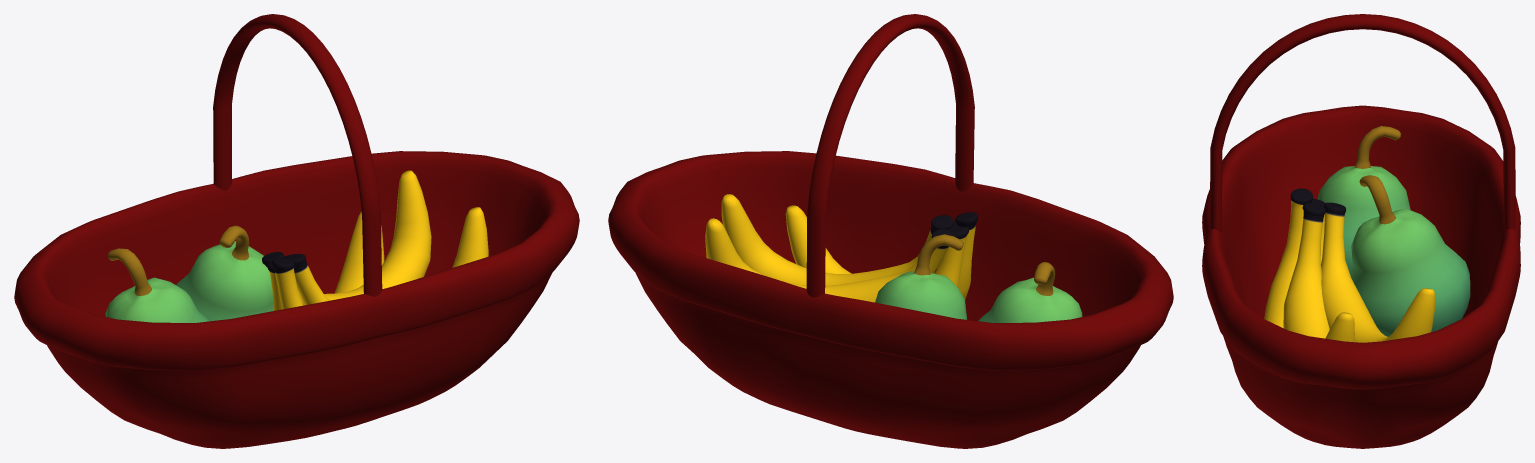
Rendered from Renai_FruitsBasket.fbx.
3 views of the same model, side by side, from view 1: azimuth 30°, elevation 25°; view 2: azimuth 150°, elevation 25°; view 3: azimuth 270°, elevation 25° (orthographic).
Visible parts, largest first — view 1: Basket, Handle, Mystery_Fruit_X1, Bananananananan2, Mystery_Fruit_X, Bananananananan, Bananananananan1, Bananananananan3; view 2: Basket, Handle, Bananananananan, Mystery_Fruit_X1, Mystery_Fruit_X, Bananananananan2, Bananananananan3, Bananananananan1; view 3: Basket, Mystery_Fruit_X1, Handle, Bananananananan2, Bananananananan, Mystery_Fruit_X, Bananananananan3.
Boxes of the visible parts, <box> form: Basket: <box>14,151,579,448</box>; Handle: <box>213,14,382,296</box>; Mystery_Fruit_X1: <box>176,225,273,321</box>; Bananananananan2: <box>262,170,431,305</box>; Mystery_Fruit_X: <box>105,248,209,322</box>; Bananananananan: <box>284,207,488,305</box>; Bananananananan1: <box>267,211,384,310</box>; Bananananananan3: <box>272,258,302,309</box>; Basket: <box>608,151,1173,448</box>; Handle: <box>806,14,974,297</box>; Bananananananan: <box>721,194,953,285</box>; Mystery_Fruit_X1: <box>875,234,966,319</box>; Mystery_Fruit_X: <box>978,262,1082,322</box>; Bananananananan2: <box>705,218,954,302</box>; Bananananananan3: <box>785,205,977,300</box>; Bananananananan1: <box>935,221,968,287</box>; Basket: <box>1202,105,1520,448</box>; Mystery_Fruit_X1: <box>1350,175,1470,336</box>; Handle: <box>1210,14,1515,233</box>; Bananananananan2: <box>1321,202,1435,342</box>; Bananananananan: <box>1283,202,1354,342</box>; Mystery_Fruit_X: <box>1317,126,1410,274</box>; Bananananananan3: <box>1264,188,1312,327</box>.
Bounding box in the file's own units: 2.42 × 1.69 × 1.26.
2 materials, 2 textured.
